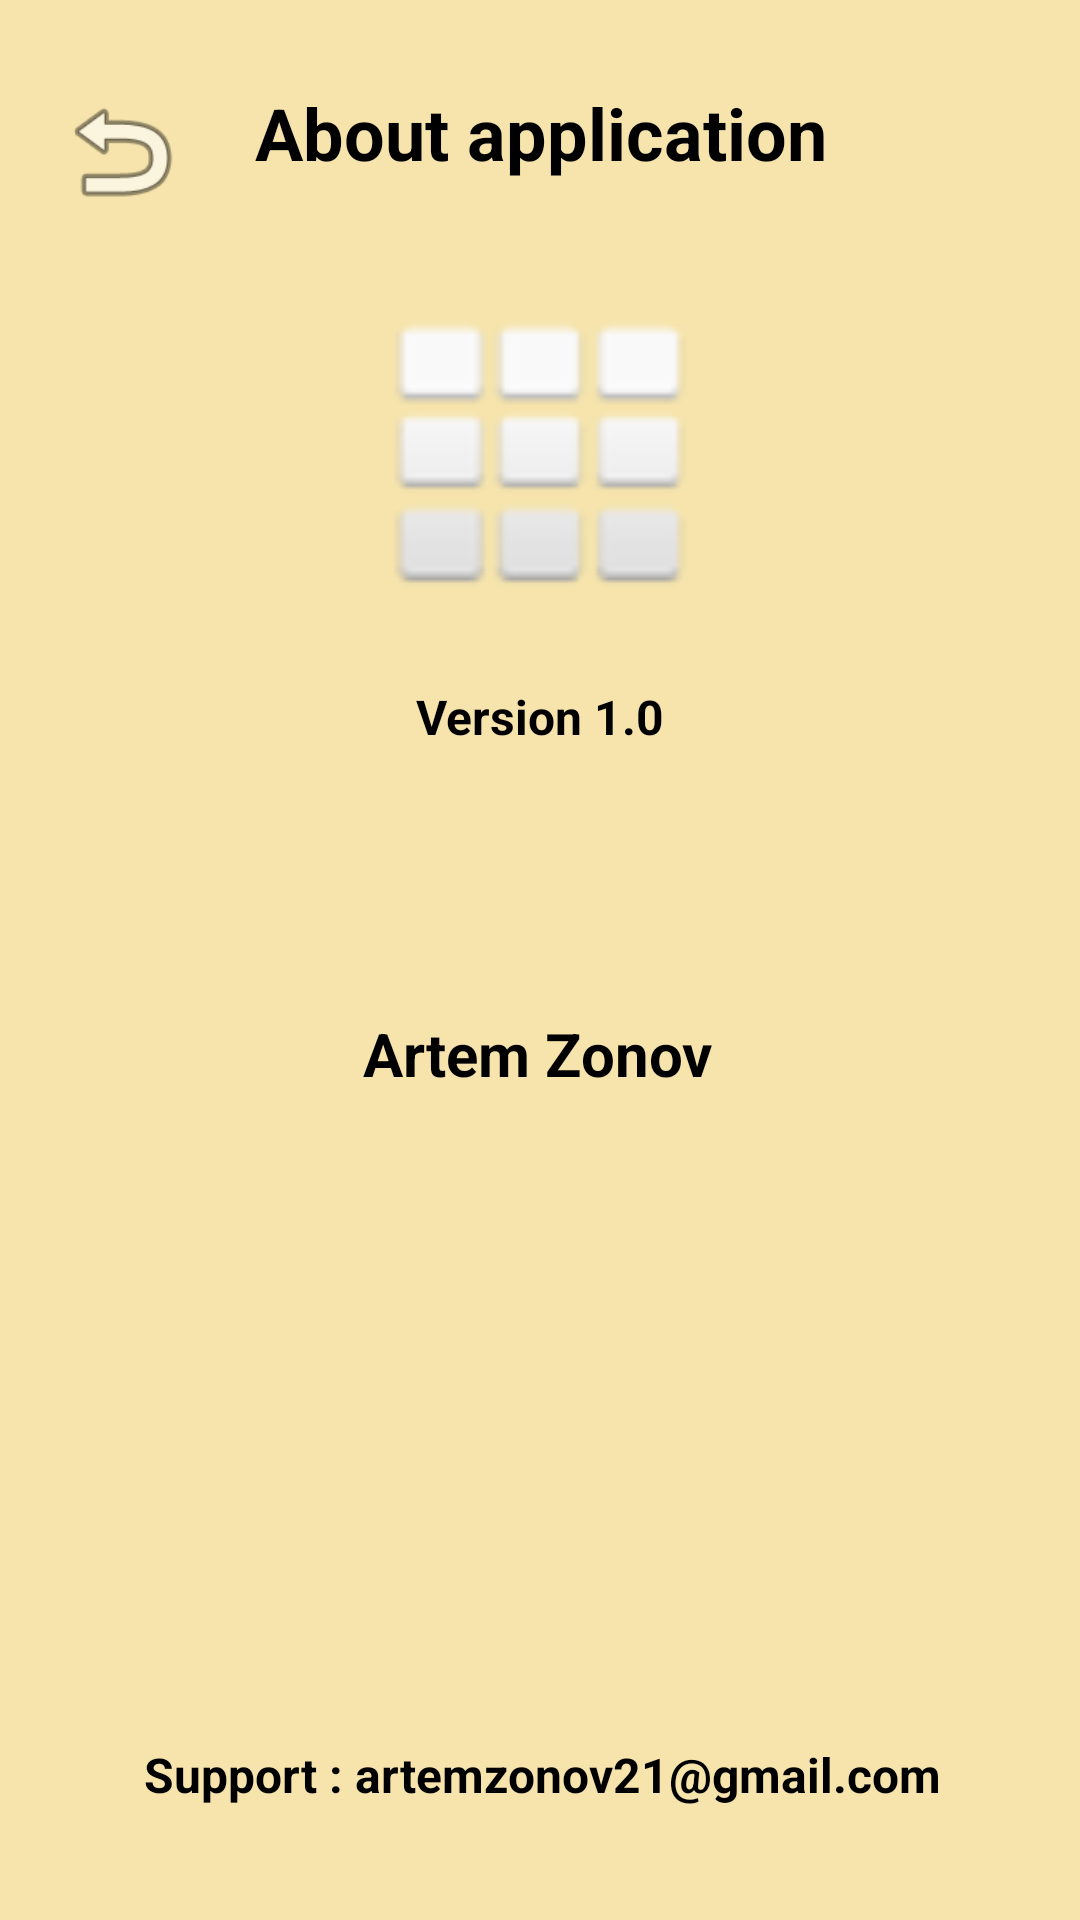

Icon bounding boxes for this 1080w x 1920h phone screenshot, format (x1, y1, x2, y2):
dialer: (399, 327, 680, 582)
revert: (75, 108, 172, 197)
